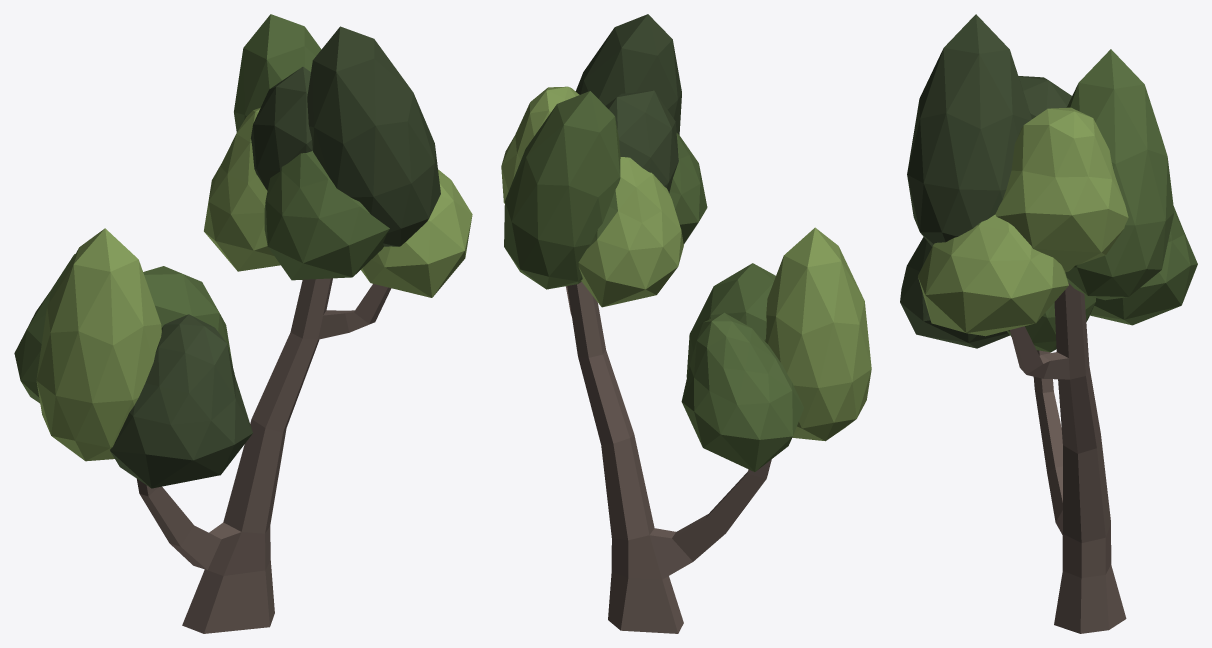
The model's file is 2_2 Oaktree_2.fbx.
3 renders of one model, left to right at view 1: azimuth 30°, elevation 25°; view 2: azimuth 150°, elevation 25°; view 3: azimuth 270°, elevation 25°, orthographic. The views are drawn at different scales.
Visible parts, largest first — view 1: Tree_Birch_full_2.001; view 2: Tree_Birch_full_2.001; view 3: Tree_Birch_full_2.001.
Part boxes in pixels (x1=…): Tree_Birch_full_2.001: x1=14, y1=14, x2=472, y2=633; Tree_Birch_full_2.001: x1=501, y1=14, x2=871, y2=633; Tree_Birch_full_2.001: x1=900, y1=14, x2=1197, y2=633.
Bounding box in the file's own units: 1101 × 1641 × 708.
